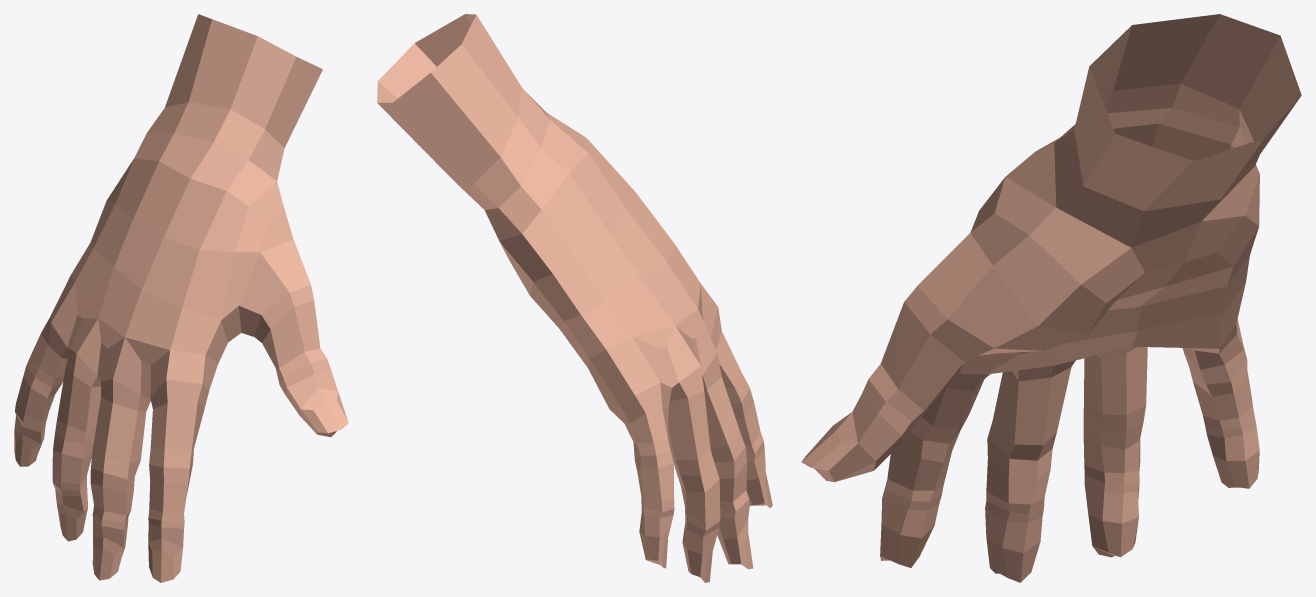
Rendered from hand.gltf.
3 views of the same model, side by side, from view 1: azimuth 30°, elevation 25°; view 2: azimuth 150°, elevation 25°; view 3: azimuth 270°, elevation 25° (orthographic). The views are drawn at different scales.
Visible parts, largest first — view 1: Object_5.001; view 2: Object_5.001; view 3: Object_5.001.
Boxes of the visible parts, x1,y1,x2,y2 form: Object_5.001: [14, 14, 348, 582]; Object_5.001: [377, 14, 772, 582]; Object_5.001: [801, 14, 1301, 582].
Bounding box in the file's own units: 1.41 × 2.31 × 1.51.
1 material, 1 textured.
